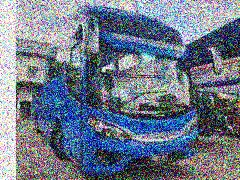bus: (34, 2, 207, 172)
